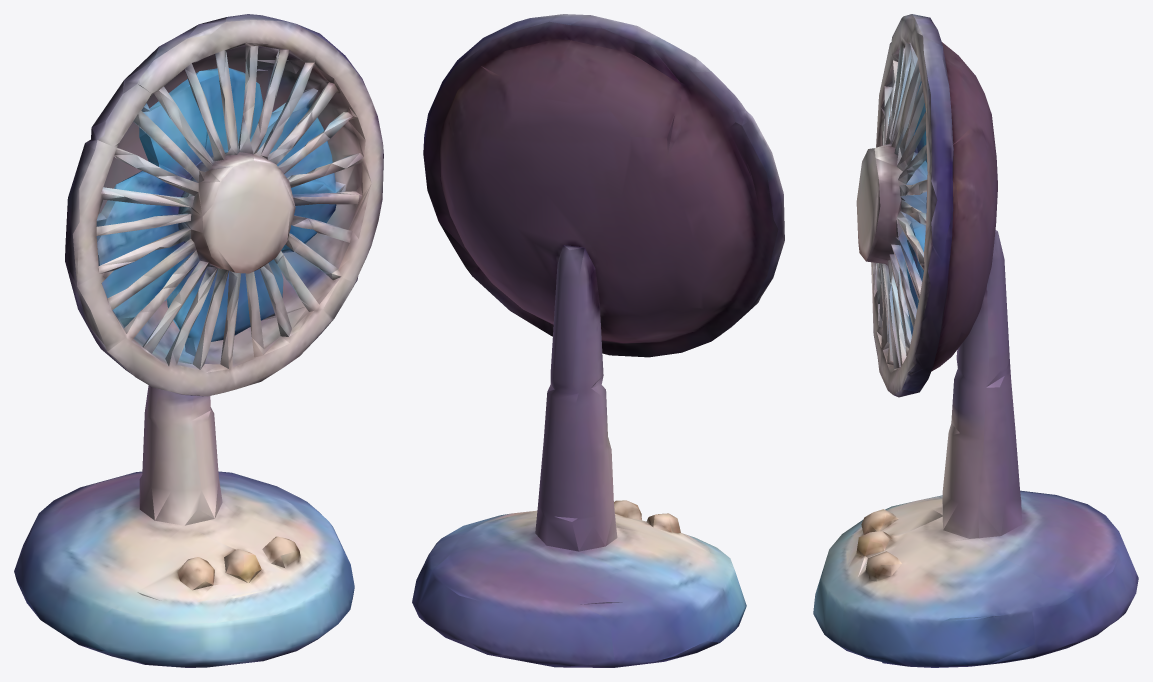
Rendered from appl15.glb.
3 views of the same model, side by side, from view 1: azimuth 30°, elevation 25°; view 2: azimuth 150°, elevation 25°; view 3: azimuth 270°, elevation 25° (orthographic). The views are drawn at different scales.
Size of the model in its own units: 0.1531 by 0.2585 by 0.1304.
1 material, 1 textured.
